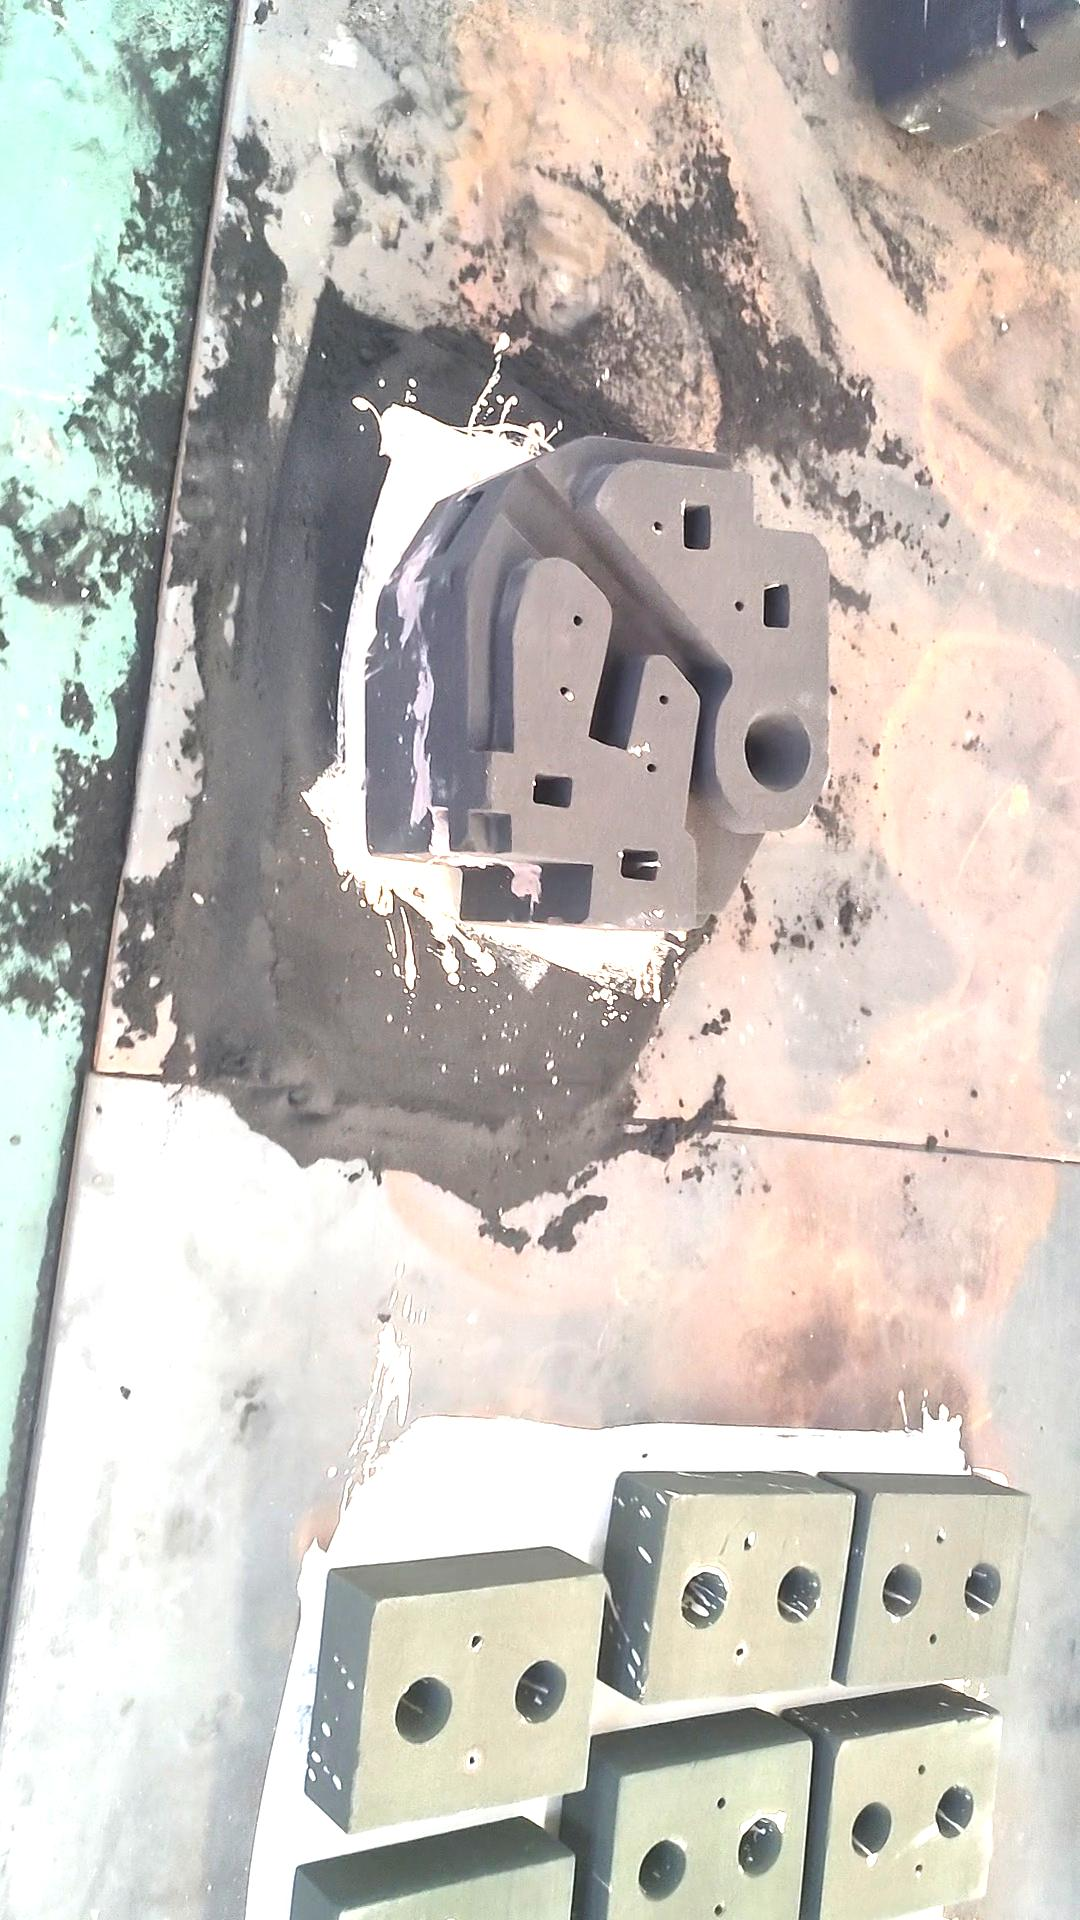pouring hole: (745, 705, 810, 793), (393, 1676, 452, 1745), (514, 1662, 568, 1724), (638, 1840, 684, 1902), (679, 1571, 727, 1629), (778, 1564, 823, 1625), (737, 1816, 782, 1876), (852, 1799, 891, 1858), (936, 1782, 975, 1840), (882, 1563, 923, 1617), (963, 1560, 1000, 1615)
